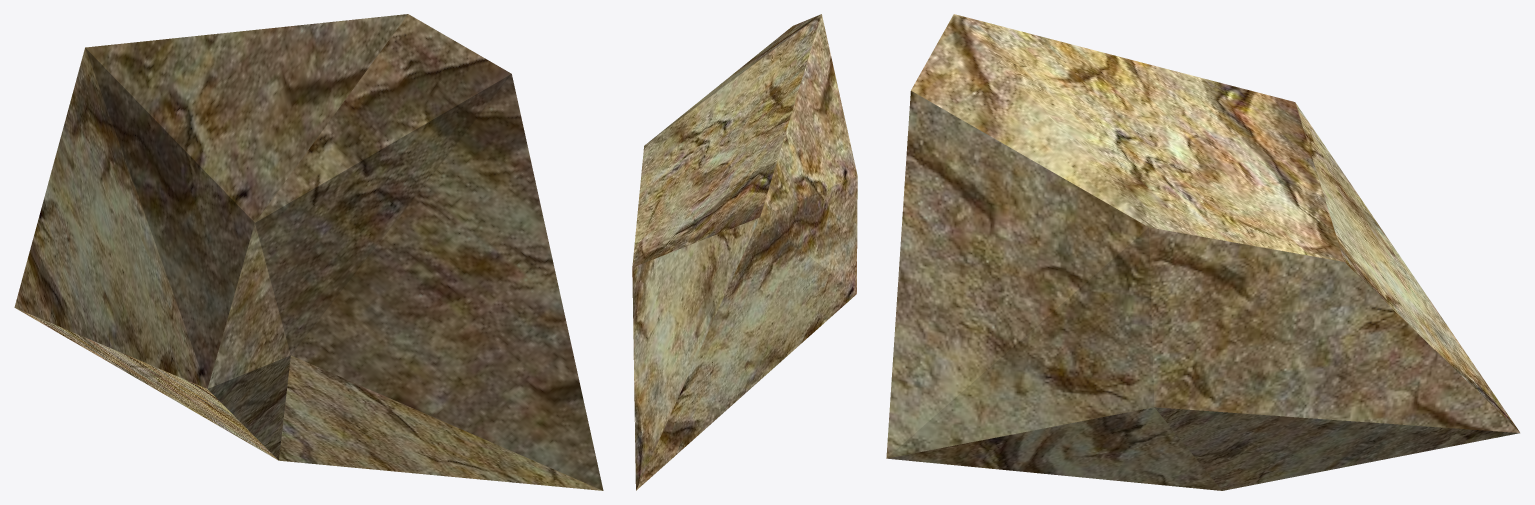
File: rock20.fbx
3 views of the same model, side by side, from view 1: azimuth 30°, elevation 25°; view 2: azimuth 150°, elevation 25°; view 3: azimuth 270°, elevation 25° (orthographic). The views are drawn at different scales.
Parts seen in each view (by area): view 1: Rock20; view 2: Rock20; view 3: Rock20.
Part boxes in pixels (left/top/right/bottom): Rock20: left=14, top=14, right=603, bottom=490; Rock20: left=632, top=14, right=857, bottom=490; Rock20: left=886, top=14, right=1519, bottom=490.
Bounding box in the file's own units: 10.56 × 18.79 × 23.38.
